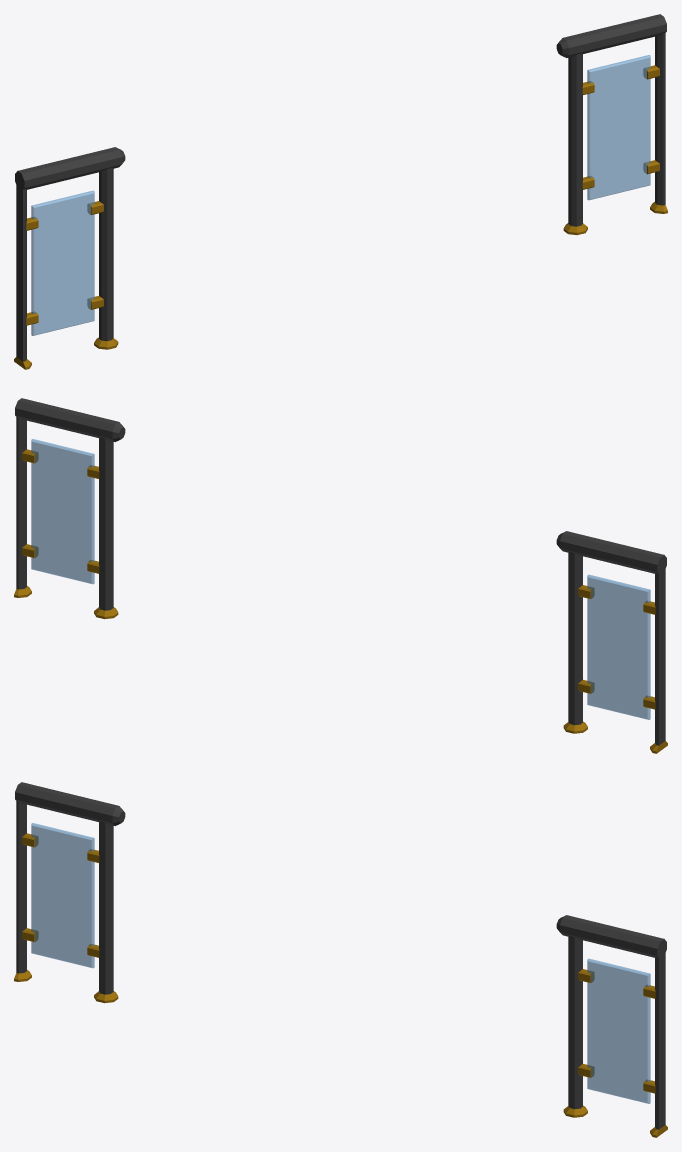
File: glass_rope_pr 1.glb
3 views of the same model, one above another, from view 1: azimuth 30°, elevation 25°; view 2: azimuth 150°, elevation 25°; view 3: azimuth 330°, elevation 25° (orthographic).
Visible parts, largest first — view 1: mesh_1, mesh_0; view 2: mesh_1, mesh_0; view 3: mesh_1, mesh_0.
Part boxes in pixels (x1=…): mesh_1: x1=31, y1=55, x2=650, y2=335; mesh_0: x1=14, y1=14, x2=667, y2=369; mesh_1: x1=31, y1=439, x2=650, y2=719; mesh_0: x1=14, y1=398, x2=667, y2=753; mesh_1: x1=31, y1=823, x2=650, y2=1103; mesh_0: x1=14, y1=782, x2=667, y2=1137.
Size of the model in its own units: 3.48 by 1 by 0.107.
